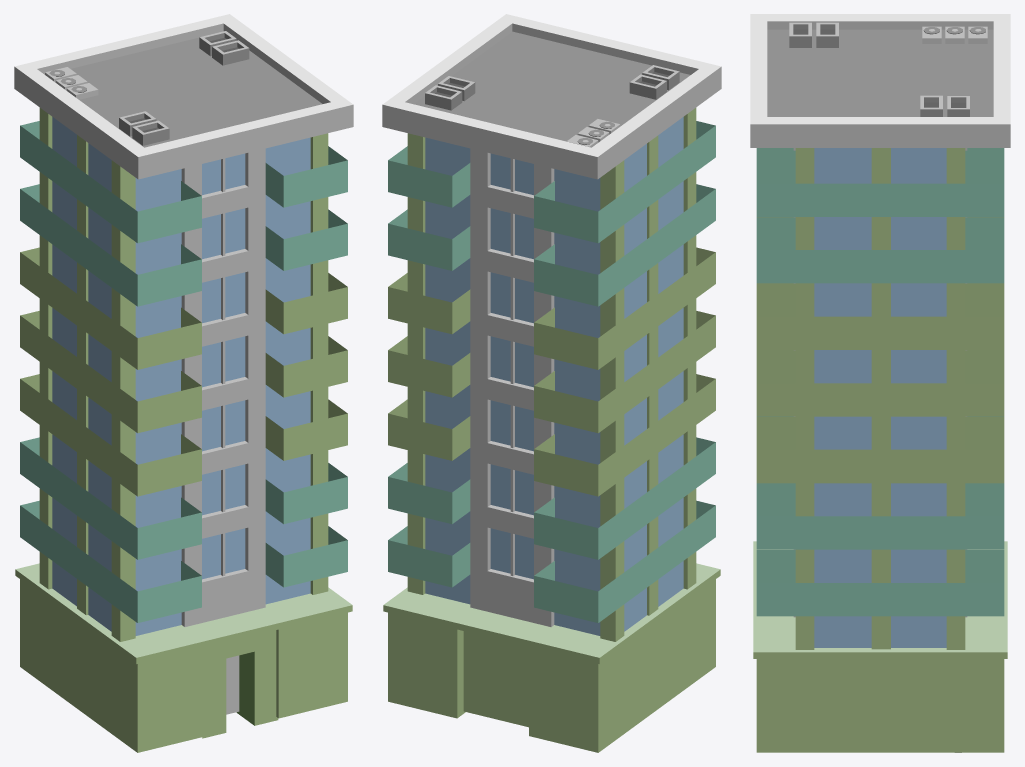
The model's file is house_middle_008.glb.
The picture shows the model from 3 angles, left to right: view 1: azimuth 30°, elevation 25°; view 2: azimuth 150°, elevation 25°; view 3: azimuth 270°, elevation 25°; orthographic projection. The views are drawn at different scales.
Parts seen in each view (by area): view 1: house_middle_008; view 2: house_middle_008; view 3: house_middle_008.
Boxes of the visible parts, left/top/right/bottom form: house_middle_008: left=14, top=14, right=353, bottom=752; house_middle_008: left=382, top=14, right=721, bottom=752; house_middle_008: left=750, top=14, right=1010, bottom=752.
Bounding box in the file's own units: 7.27 × 19.42 × 7.2.
Materials: 1 (1 with a texture image).
